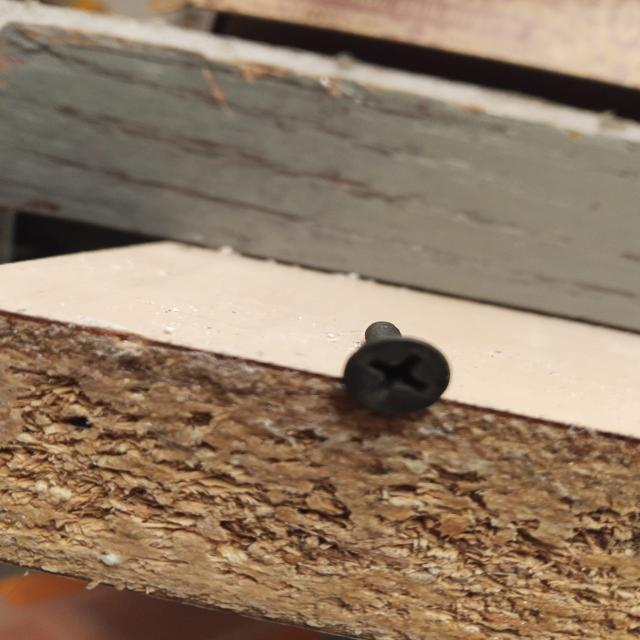phillips: (342, 338, 452, 418)
